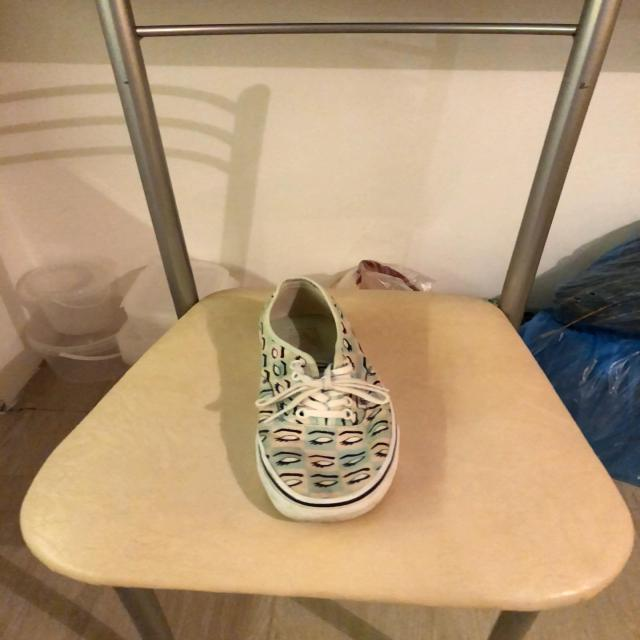shoe: (255, 278, 401, 524)
